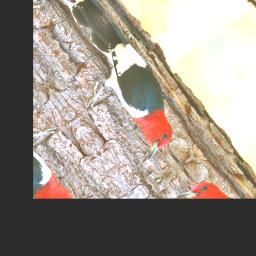Woodpecker: (48, 17, 198, 171)
